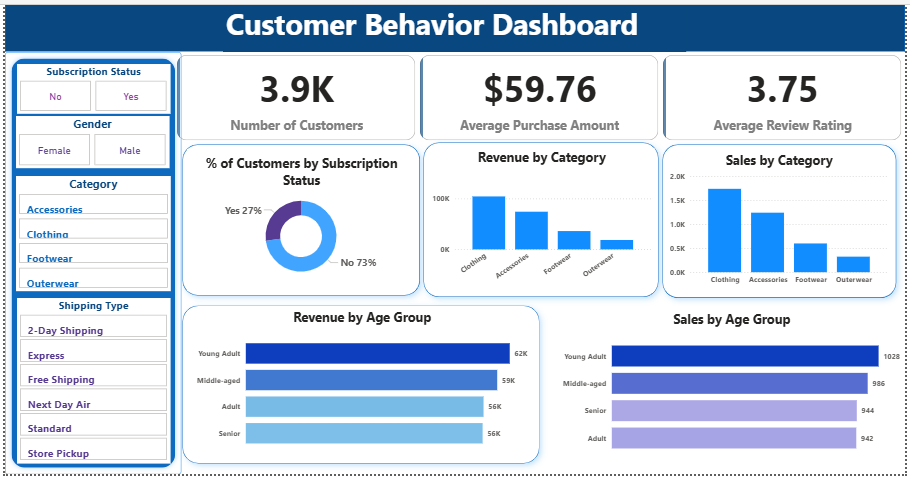

The dashboard page shown, as its layout file describes it:
{"tool":"powerbi","page":{"name":"Page 1","canvas":[1500,820],"ordinal":0},"visuals":[{"type":"cardVisual","fields":{"Data":["customer.Number of Customers","customer.Average Purchase Amount","customer.Average Review Rating"]},"box":[282,116,1218,152],"z":0},{"type":"shape","box":[0,0,1500,116],"z":1000},{"type":"textbox","box":[363,31.5,772.2,85.2],"z":2000},{"type":"shape","box":[282,256,424,280],"z":3000},{"type":"donutChart","title":"% of Customers by Subscription Status","fields":{"Category":["customer.subscription_status"],"Y":["CountNonNull(customer.customer_id)"]},"box":[308,276,370,238],"z":4000},{"type":"shape","box":[684,254,420,286],"z":5000},{"type":"shape","box":[1082,256,418,284],"z":6000},{"type":"clusteredColumnChart","title":"Revenue by Category","fields":{"Y":["Sum(customer.purchase_amount)"],"Category":["customer.category"]},"box":[706,276,376,238],"z":7000},{"type":"clusteredColumnChart","title":"Sales by Category","fields":{"Y":["CountNonNull(customer.customer_id)"],"Category":["customer.category"]},"box":[1104,282,374,232],"z":8000},{"type":"shape","box":[0,116.7,294.4,703.7],"z":9000},{"type":"advancedSlicerVisual","title":"Subscription Status","fields":{"Values":["customer.subscription_status"]},"box":[20.4,137,255.6,83.3],"z":10000},{"type":"advancedSlicerVisual","title":"Gender","fields":{"Values":["customer.gender"]},"box":[18.5,224.1,255.6,87],"z":11000},{"type":"advancedSlicerVisual","title":"Category","fields":{"Values":["customer.category"]},"box":[18.5,324.1,257.4,190.7],"z":12000},{"type":"advancedSlicerVisual","title":"Shipping Type","fields":{"Values":["customer.shipping_type"]},"box":[20.4,525.9,255.6,275.9],"z":13000},{"type":"clusteredBarChart","title":"Sales by Age Group","fields":{"Y":["CountNonNull(customer.customer_id)"],"Category":["customer.age_group"]},"box":[924.1,546.3,575.9,255.6],"z":14000},{"type":"shape","box":[281.7,525,623.3,291.7],"z":15000},{"type":"clusteredBarChart","title":"Revenue by Age Group","fields":{"Y":["Sum(customer.purchase_amount)"],"Category":["customer.age_group"]},"box":[314,544,564,250],"z":16000}]}

Visuals, with their boxes in screenshot pixels (x1, y1, x2, y2):
cardVisual - customer.Number of Customers x customer.Average Purchase Amount: {"left": 172, "top": 51, "right": 902, "bottom": 142}
shape: {"left": 2, "top": 0, "right": 902, "bottom": 51}
textbox: {"left": 220, "top": 0, "right": 683, "bottom": 51}
shape: {"left": 172, "top": 135, "right": 426, "bottom": 303}
"% of Customers by Subscription Status" donutChart: {"left": 187, "top": 147, "right": 409, "bottom": 289}
shape: {"left": 413, "top": 133, "right": 665, "bottom": 305}
shape: {"left": 651, "top": 135, "right": 902, "bottom": 305}
"Revenue by Category" clusteredColumnChart: {"left": 426, "top": 147, "right": 651, "bottom": 289}
"Sales by Category" clusteredColumnChart: {"left": 665, "top": 150, "right": 889, "bottom": 289}
shape: {"left": 2, "top": 51, "right": 179, "bottom": 473}
"Subscription Status" advancedSlicerVisual: {"left": 15, "top": 63, "right": 168, "bottom": 113}
"Gender" advancedSlicerVisual: {"left": 13, "top": 115, "right": 167, "bottom": 168}
"Category" advancedSlicerVisual: {"left": 13, "top": 175, "right": 168, "bottom": 290}
"Shipping Type" advancedSlicerVisual: {"left": 15, "top": 296, "right": 168, "bottom": 462}
"Sales by Age Group" clusteredBarChart: {"left": 557, "top": 309, "right": 902, "bottom": 462}
shape: {"left": 171, "top": 296, "right": 545, "bottom": 471}
"Revenue by Age Group" clusteredBarChart: {"left": 191, "top": 307, "right": 529, "bottom": 457}
